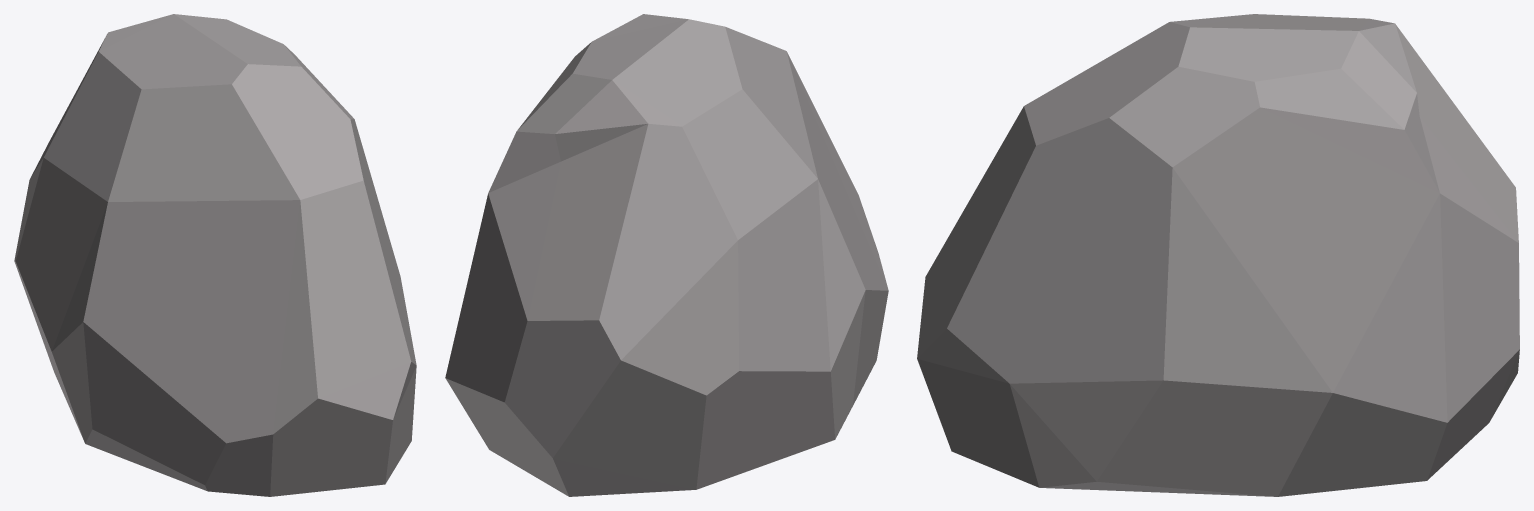
The model's file is Rock_Round_m_05.fbx.
The picture shows the model from 3 angles, left to right: view 1: azimuth 30°, elevation 25°; view 2: azimuth 150°, elevation 25°; view 3: azimuth 270°, elevation 25°; orthographic projection. The views are drawn at different scales.
Parts seen in each view (by area): view 1: Rock_Round_m_05; view 2: Rock_Round_m_05; view 3: Rock_Round_m_05.
Boxes of the visible parts, box(x1,y1,x2,y2) form: Rock_Round_m_05: box(14, 14, 416, 496); Rock_Round_m_05: box(445, 14, 888, 496); Rock_Round_m_05: box(917, 14, 1519, 496).
Bounding box in the file's own units: 58.38 × 64.14 × 86.44.
